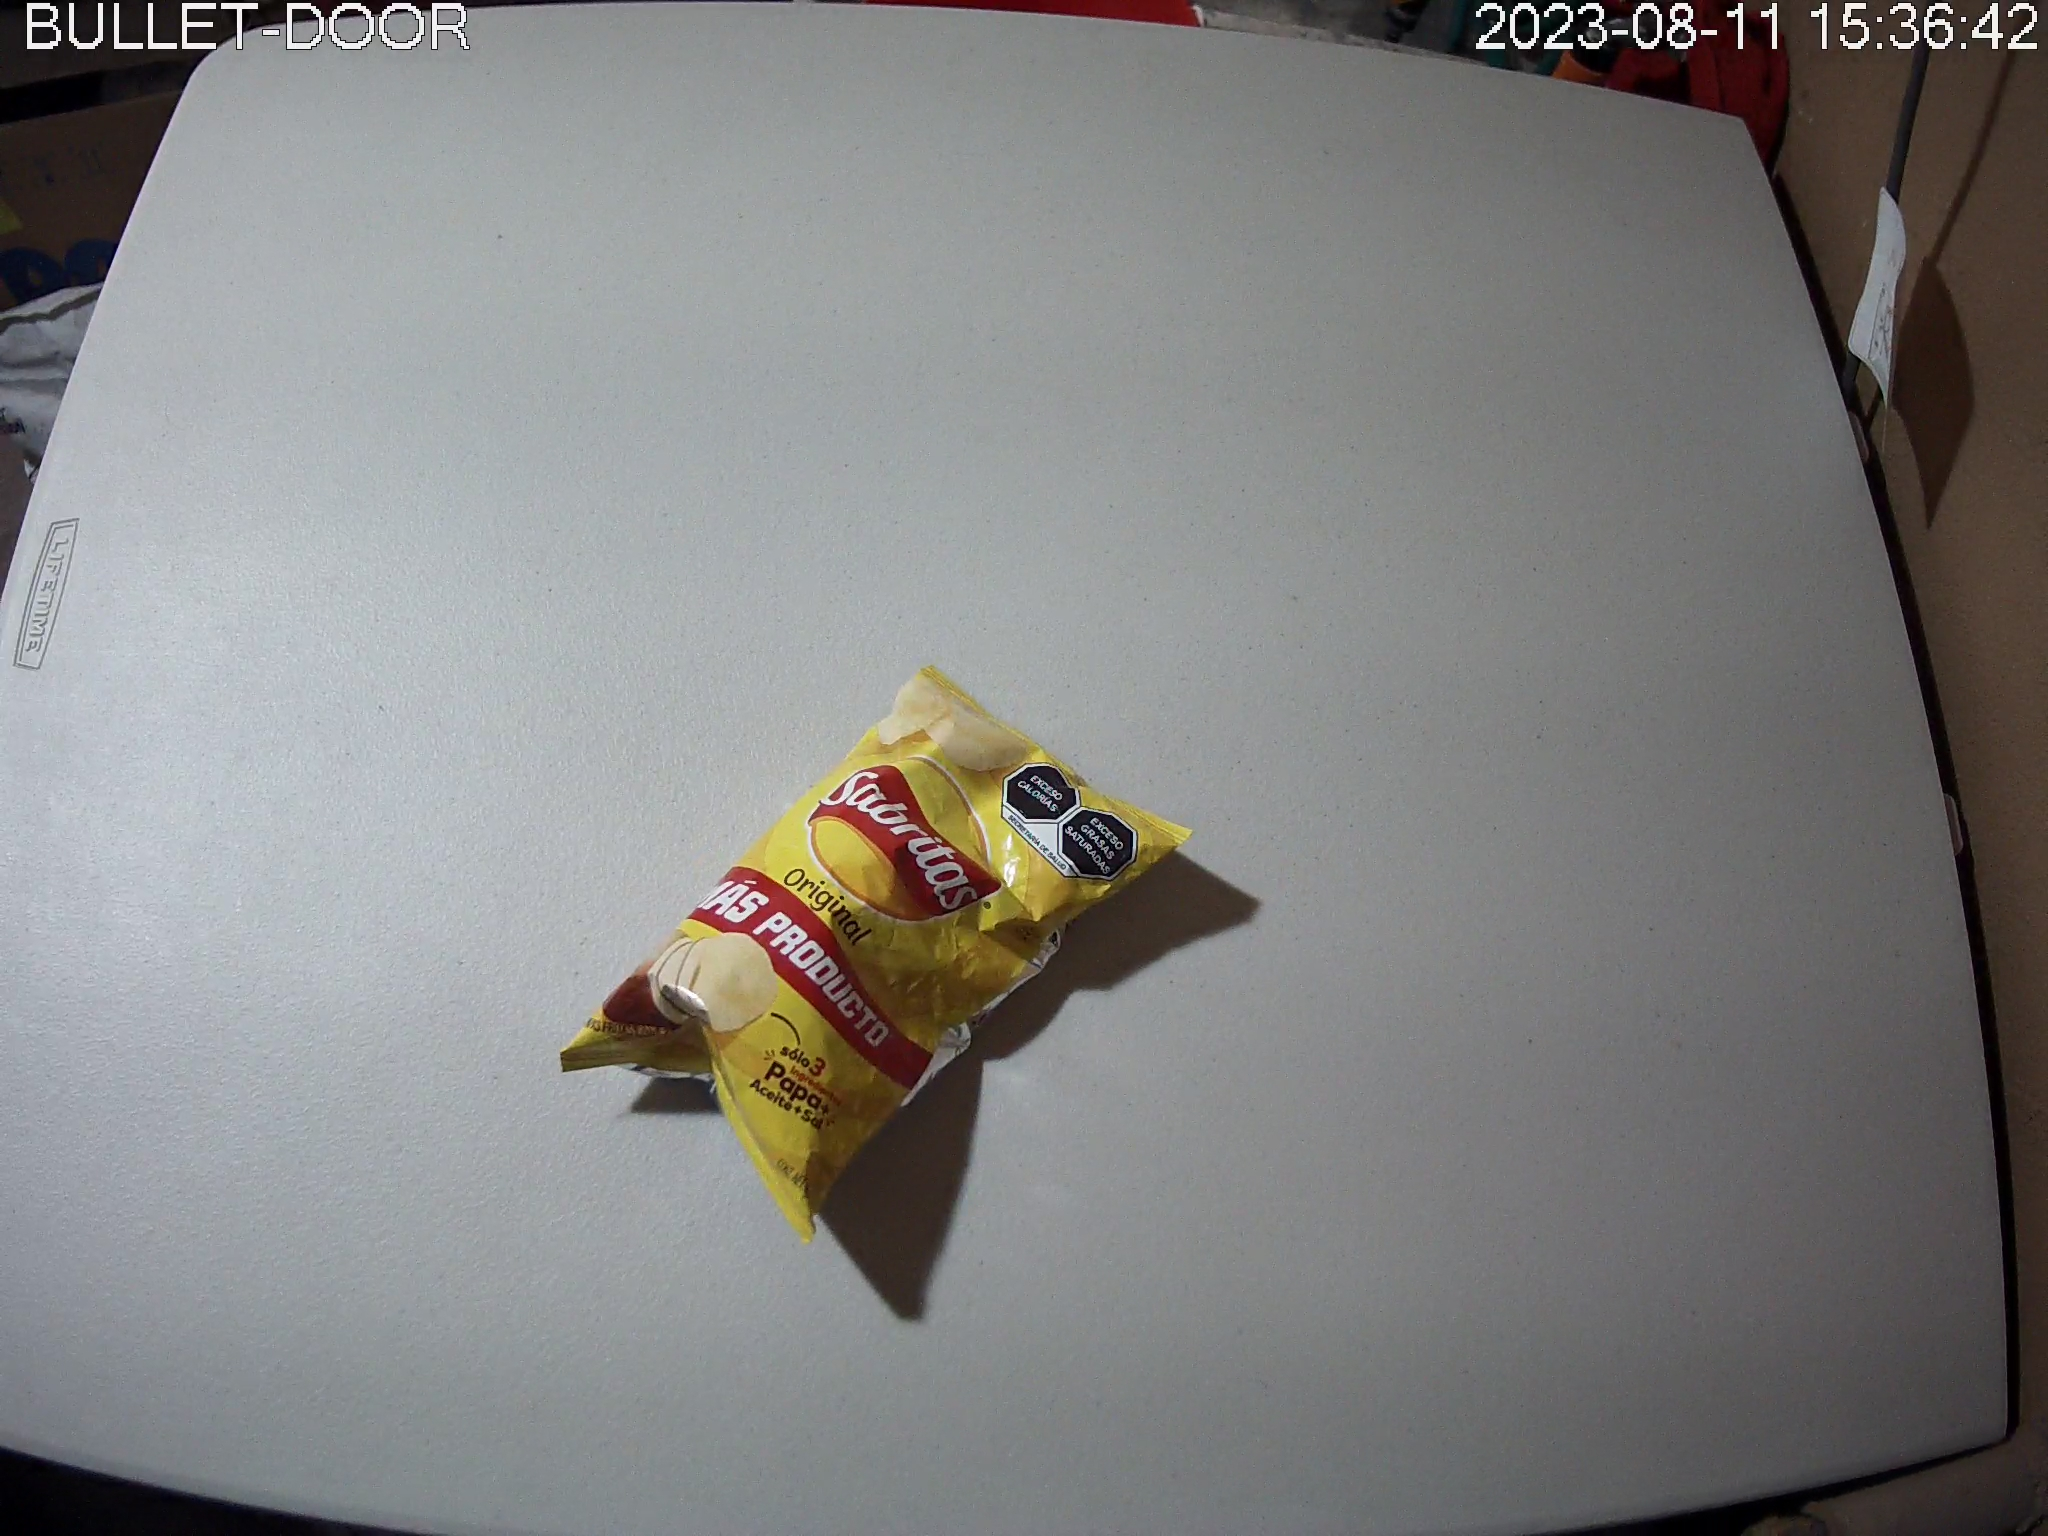Sabritas_45_F: (561, 663, 1197, 1246)
